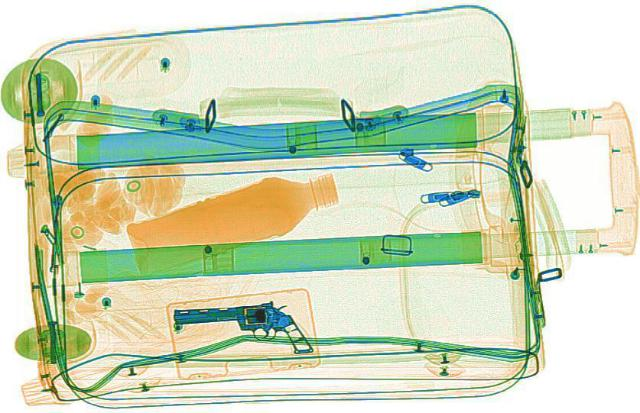Gun: (164, 298, 314, 360)
